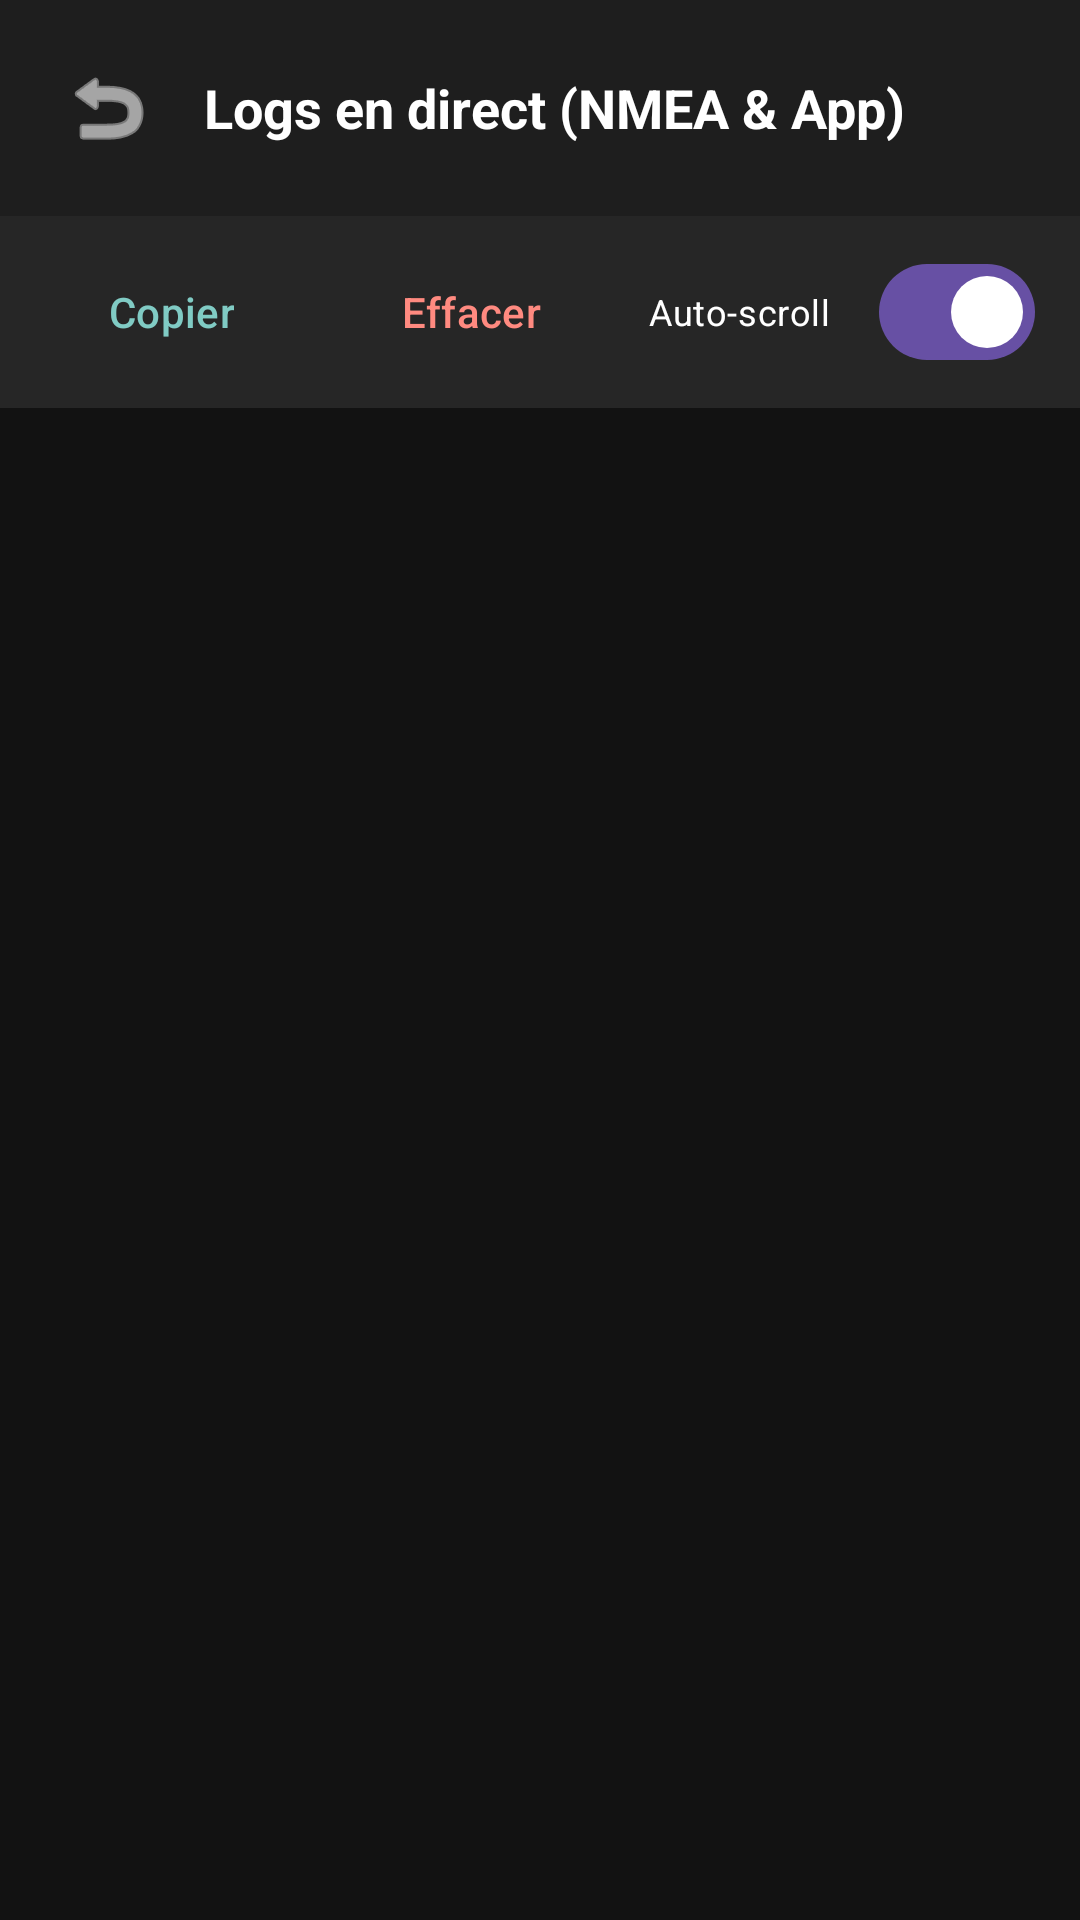

Named icons in this screenshot (1080×1920) and their bounding boxes, detection(x1, y1, x2, y2):
Retour: detection(75, 77, 144, 140)
